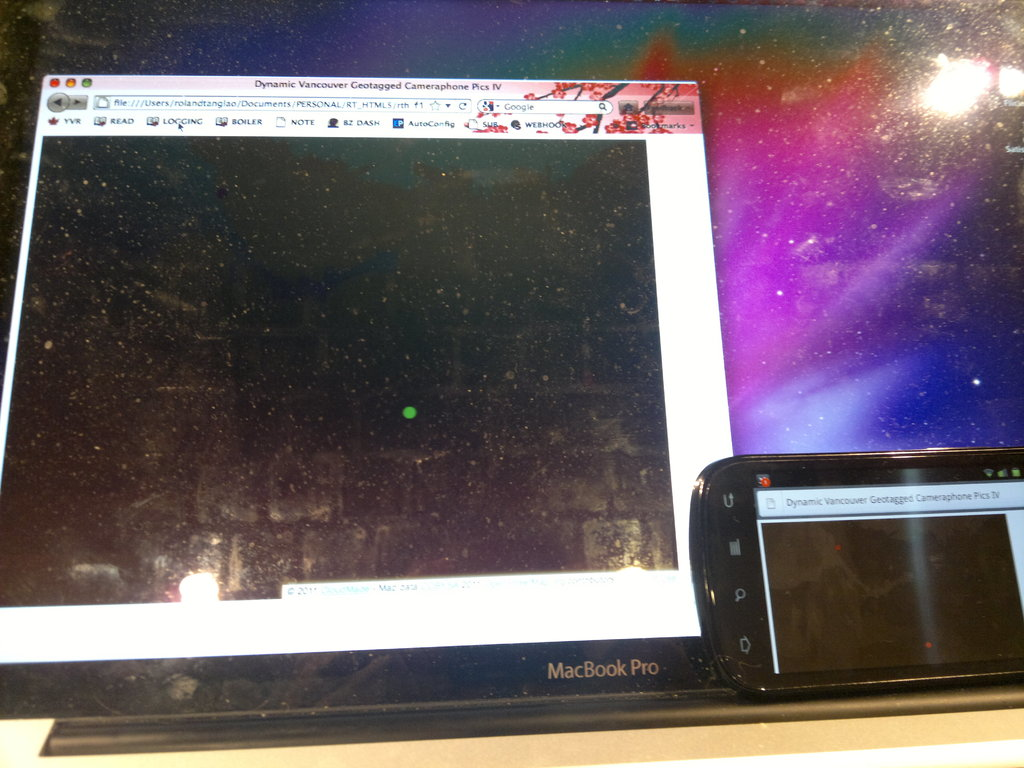Mobile-phone: (689, 443, 1024, 700)
